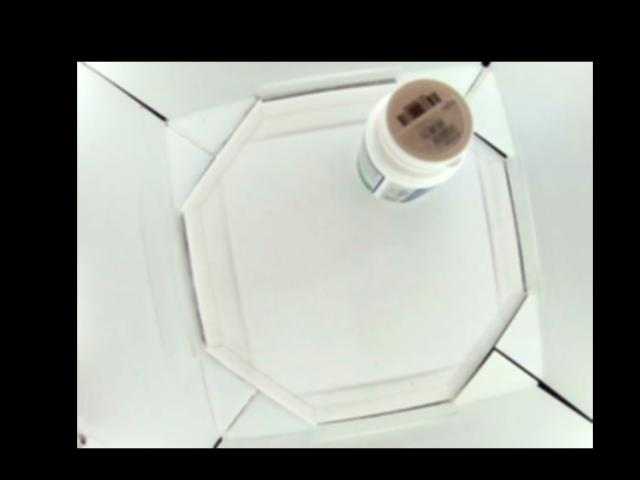Bottle: (355, 76, 473, 203)
